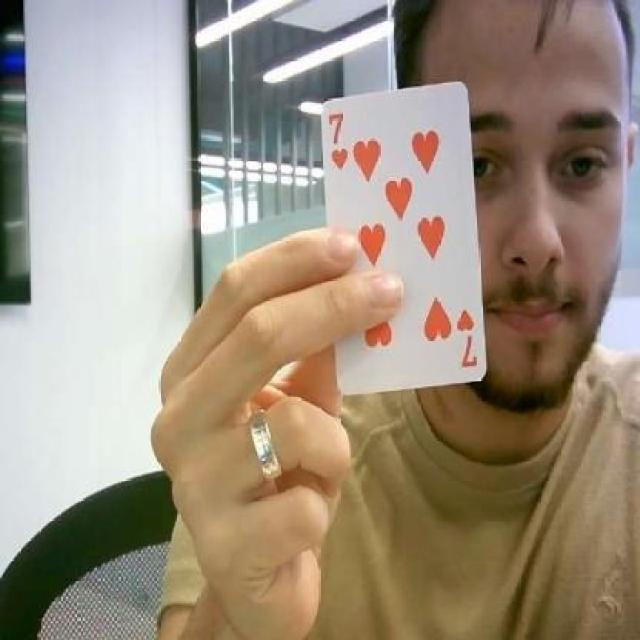7H: (454, 303, 478, 372), (326, 111, 349, 171)
